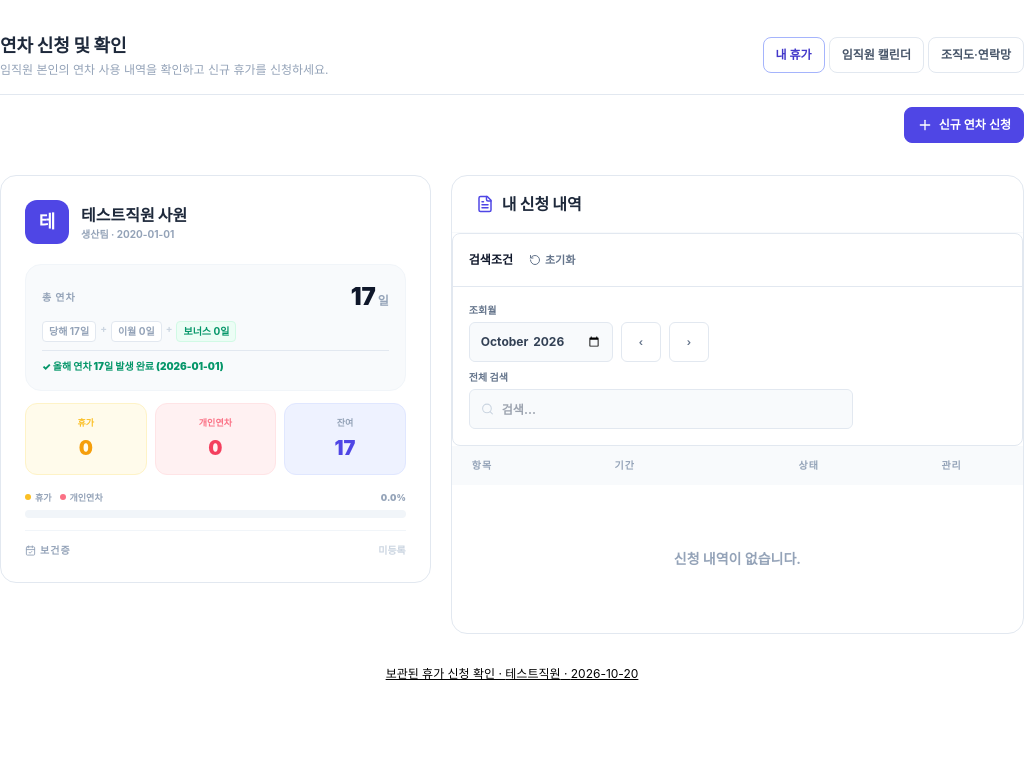
Test: 재로드 보관 요청은 새 번호로 제출하지 않고 원문 확인으로 복원한다
This screenshot has width=1024, height=768.
Click the button "보관된 휴가 신청 확인 · 테스트직원 · 2026-10-20". click: (512, 674)
box: top-left (0, 666), bottom-right (1023, 682)
(page scrolled)
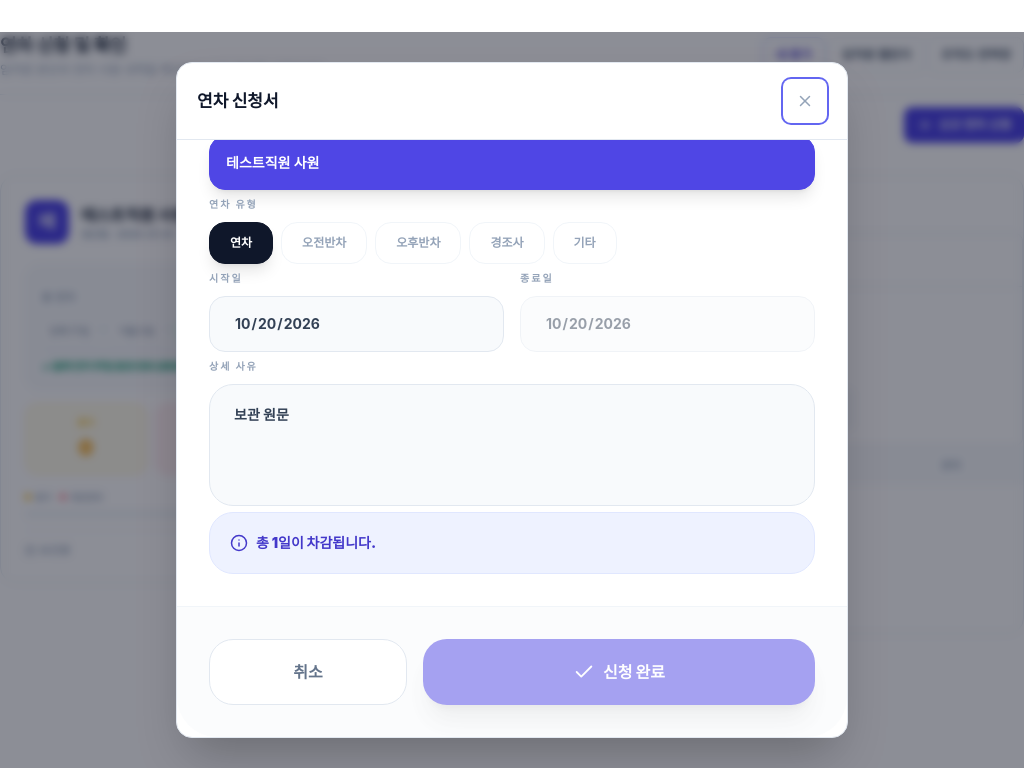
Expected: the text box showing "보관 원문" is shown, top-left (209, 384), bottom-right (815, 506)
Expected: the button "신청 완료" is disabled, top-left (423, 639), bottom-right (815, 705)
